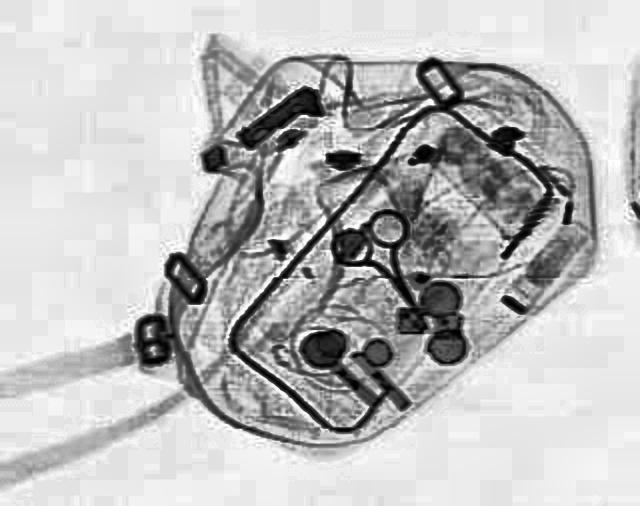Scissors: (313, 203, 461, 333)
